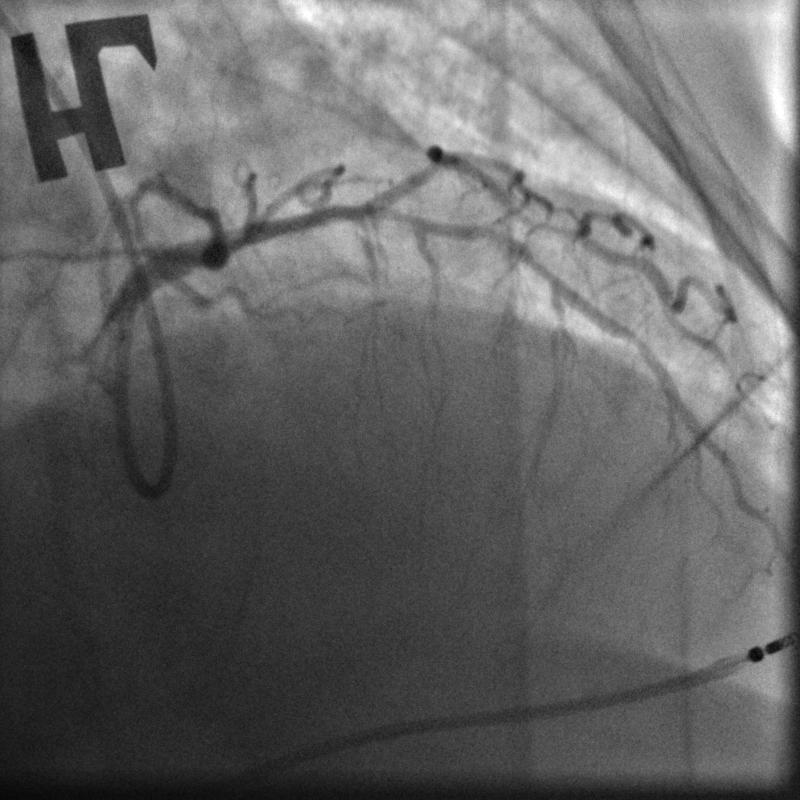Stenosis: (466, 220, 538, 269)
